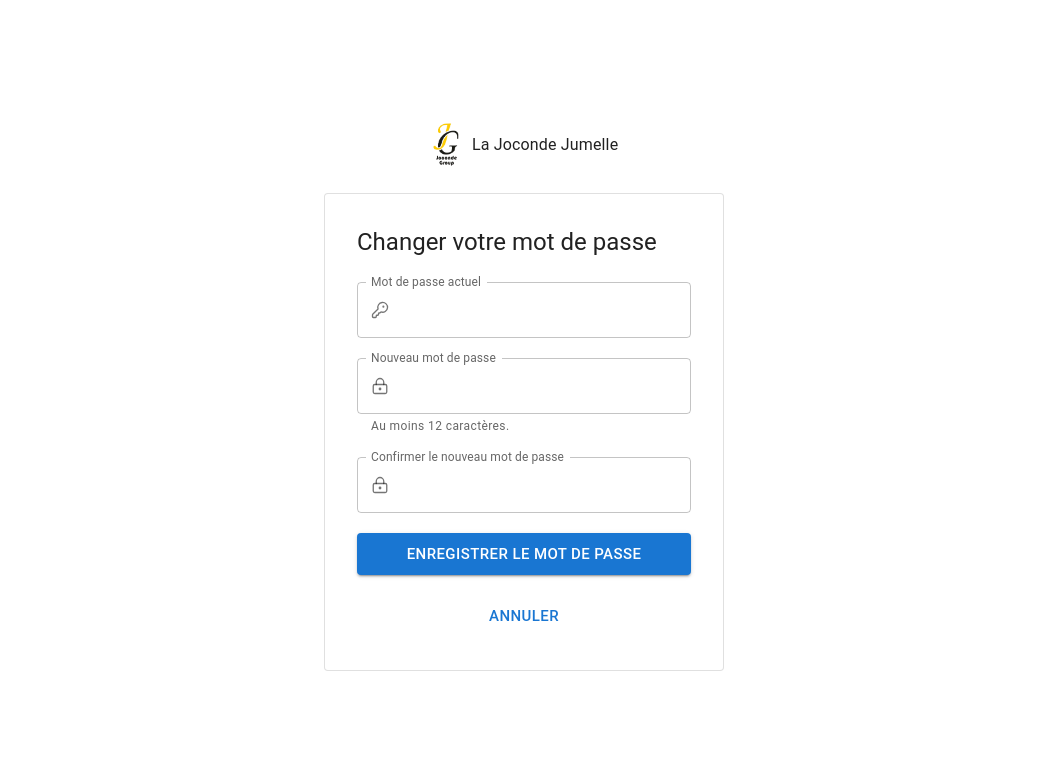
Test: ChangePasswordPage — mode volontaire (spec 005, FR-007, FR-008) › « Annuler » ramène au profil sans rien enregistrer
The width and height of the screenshot is (1048, 780).
Click the button "Annuler" at (524, 617), box [357,596,691,638]
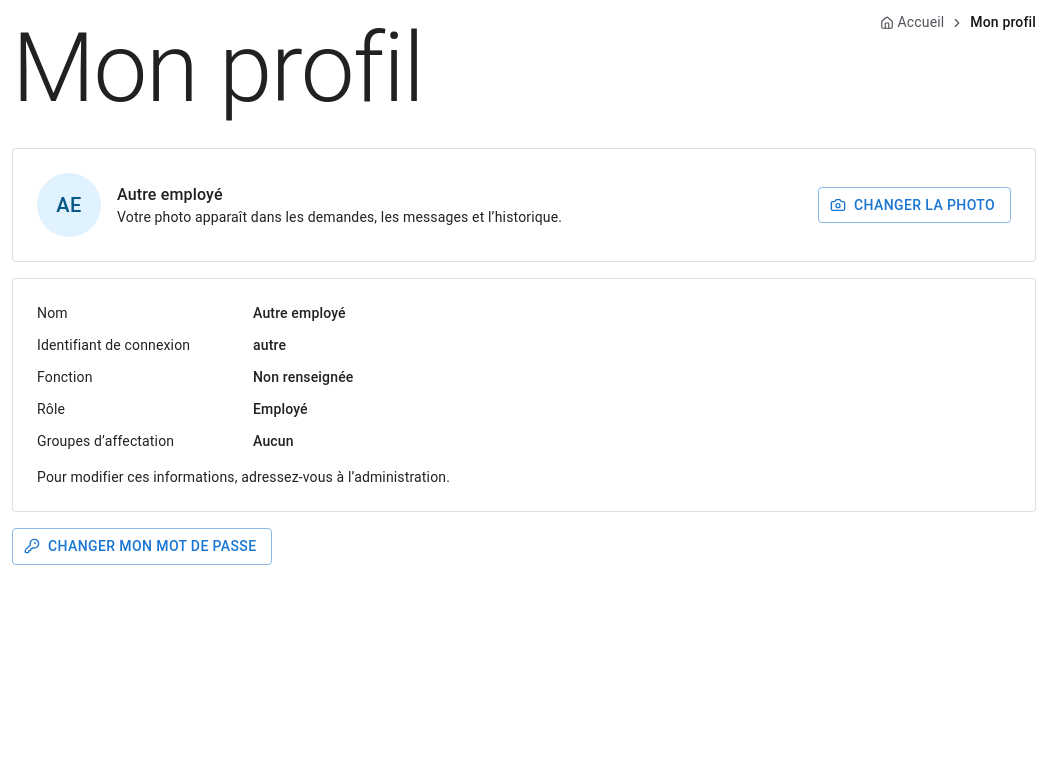
Expected: the heading "Mon profil" is shown, [12,12,423,124]
